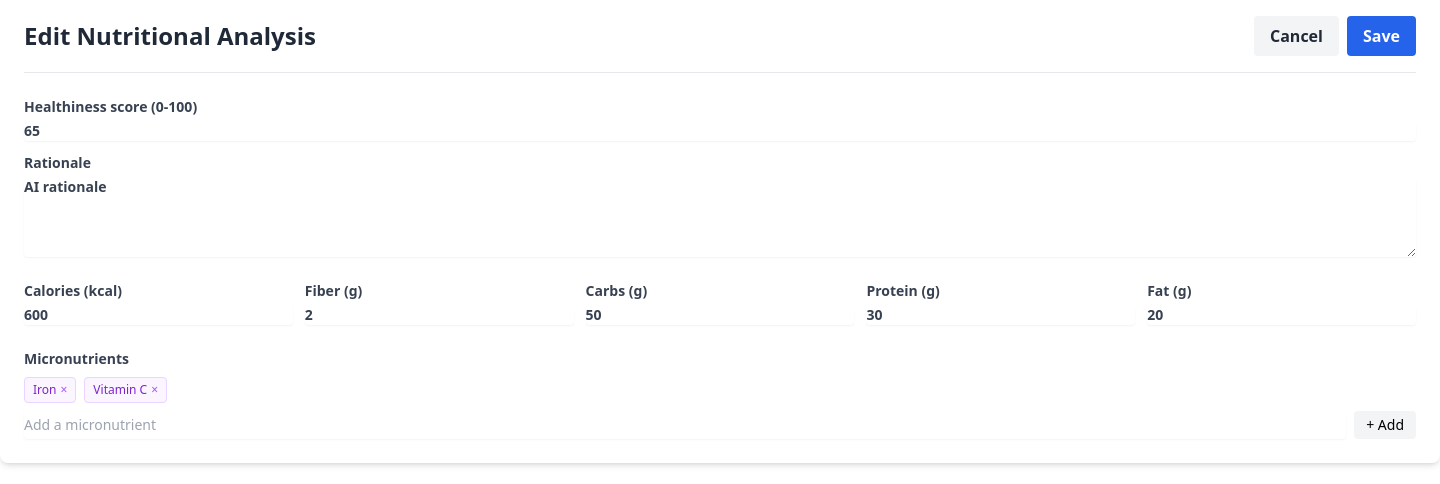
Scenario: NutritionResultsEditForm › micronutrient chip add + remove
Type "Magnesium" into the field with test id "nutrition-micro-input" at (685, 425), box [24,411,1346,439]
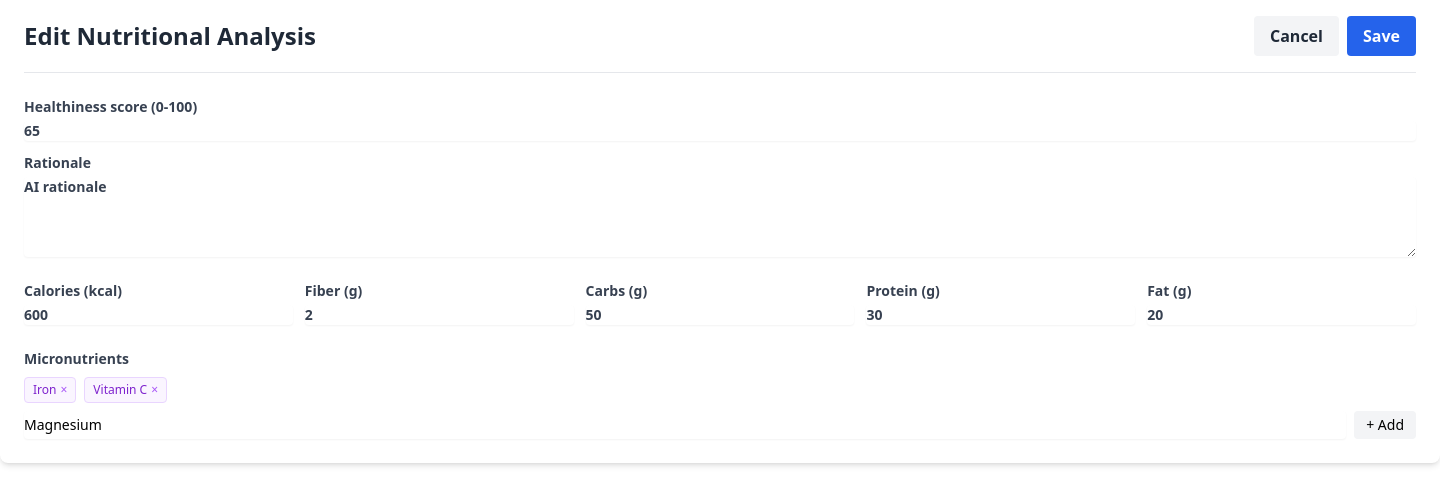
Click the button with test id "nutrition-micro-add" at (1385, 425), box [1354,411,1416,439]
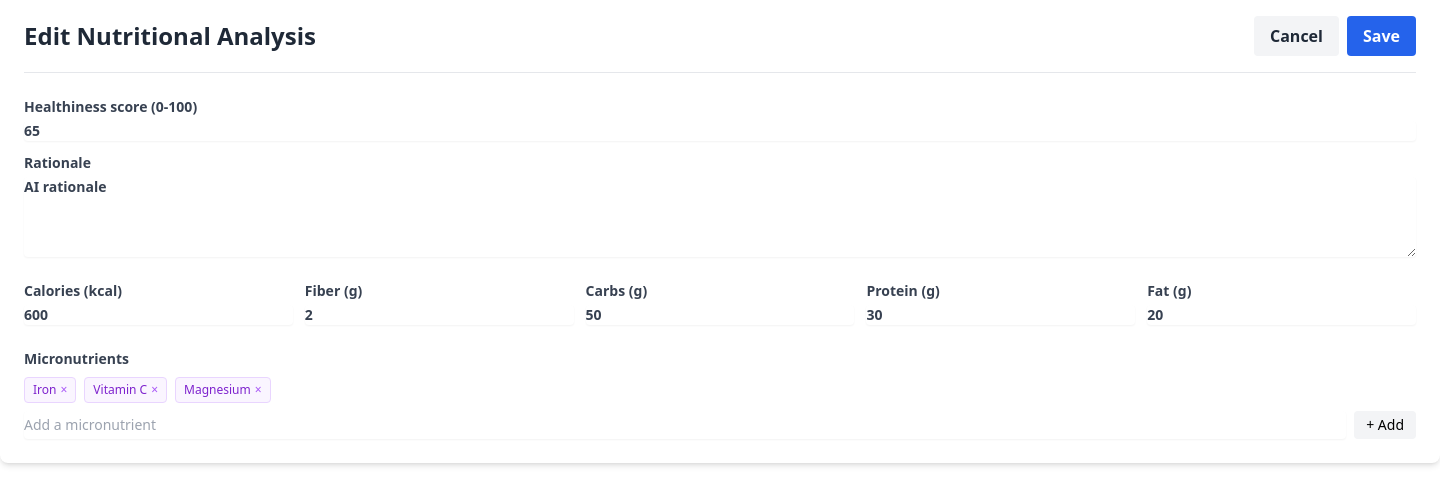
Check: the element with test id "nutrition-micro-chip-Magnesium" is shown, box [175,377,270,403]
Click the button "×" next to "Magnesium" at (258, 390), box [255,382,262,398]
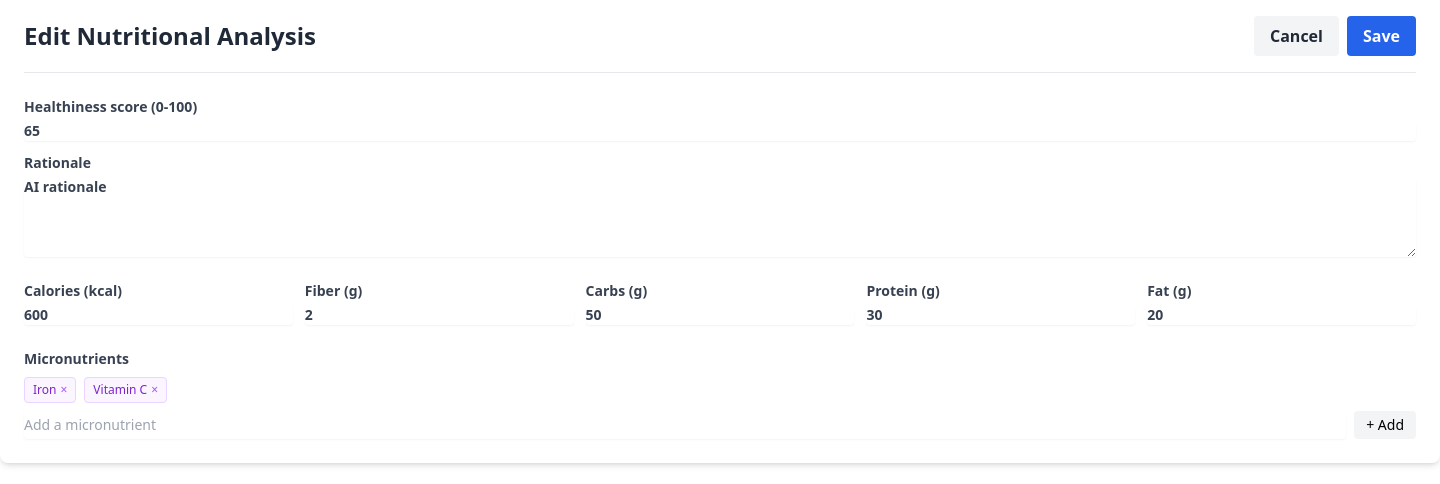
Check: the element with test id "nutrition-micro-chip-Magnesium" is gone
